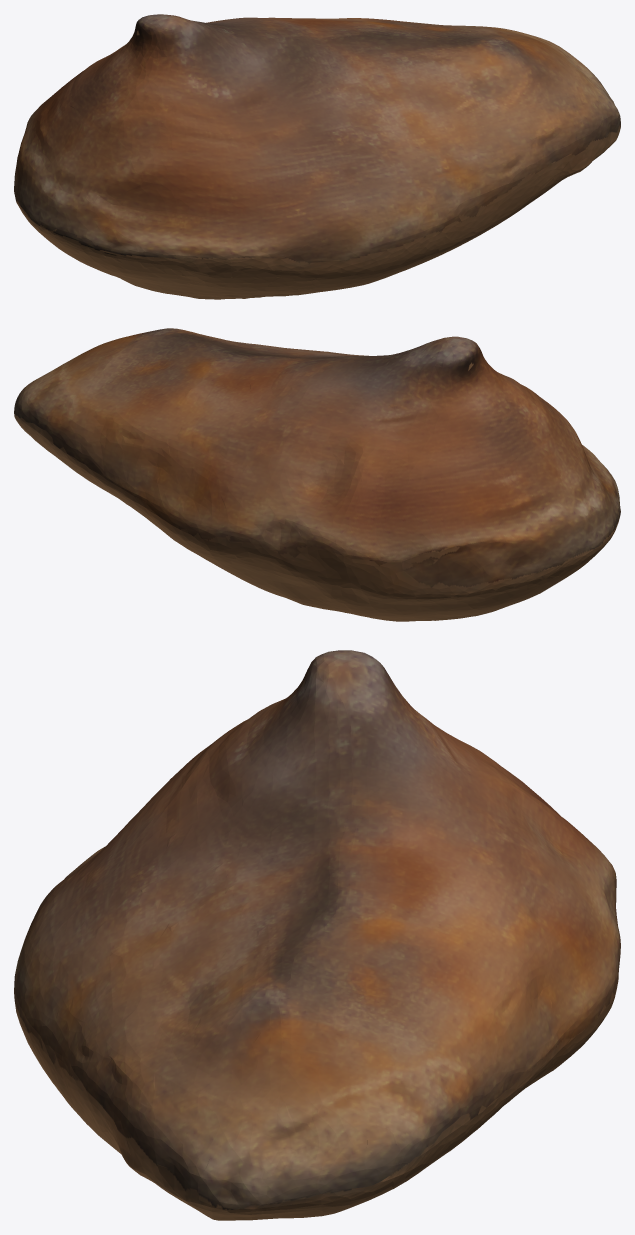
The picture shows the model from 3 angles, top to bottom: view 1: azimuth 30°, elevation 25°; view 2: azimuth 150°, elevation 25°; view 3: azimuth 270°, elevation 25°; orthographic projection. The views are drawn at different scales.
Parts seen in each view (by area): view 1: world; view 2: world; view 3: world.
Boxes of the visible parts, x1,y1,x2,y2 form: world: (14,14,620,299); world: (14,328,620,621); world: (14,650,620,1220).
Bounding box in the file's own units: 0.032 × 0.0146 × 0.0208.
Materials: 1 (1 with a texture image).
